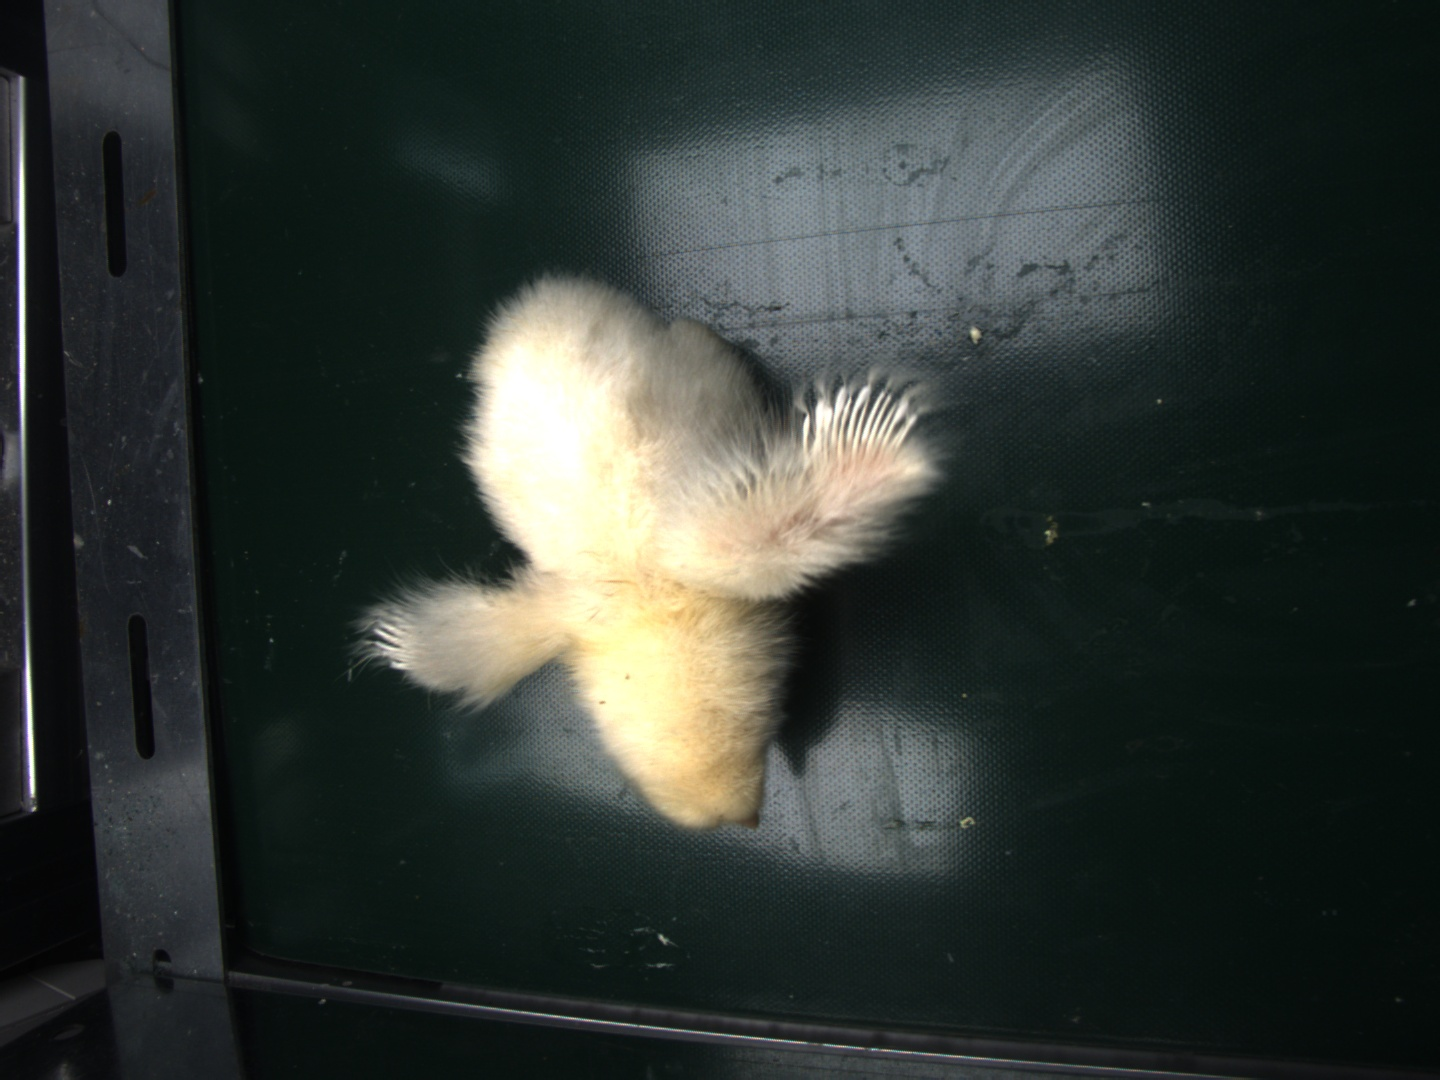male: (802, 382, 920, 459)
